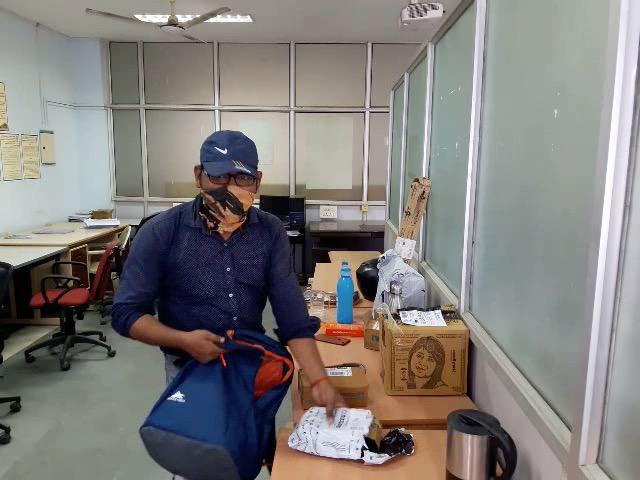shoplifting: (134, 314, 418, 480)
